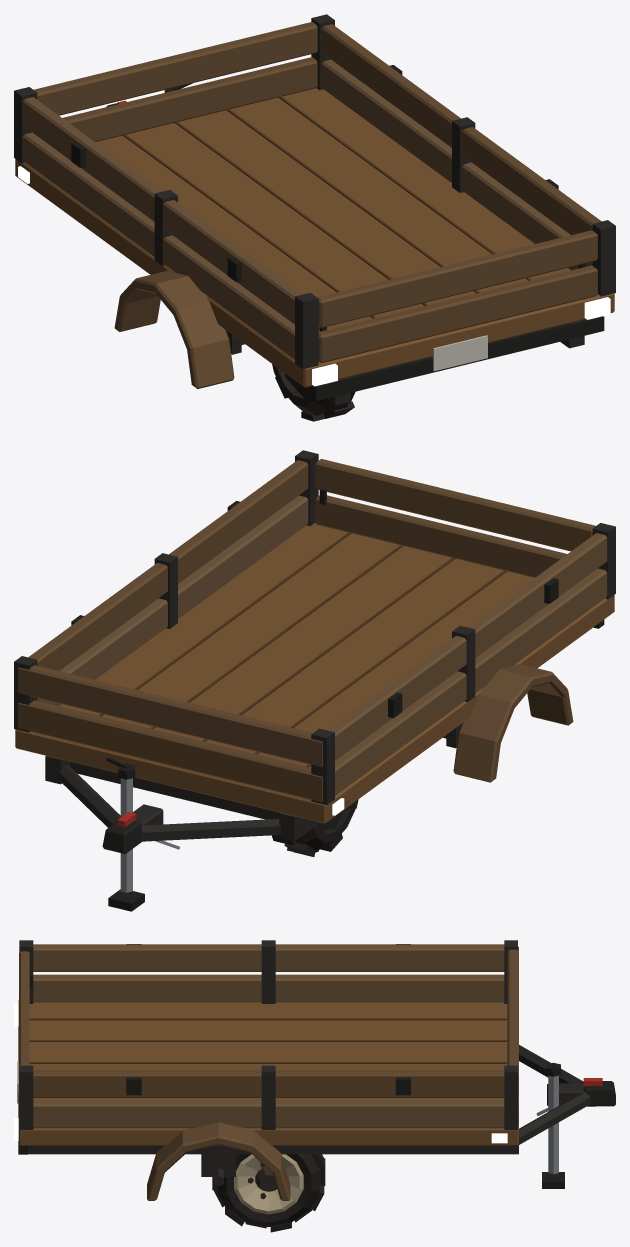
The model's file is PonyTrailer.glb.
3 views of the same model, one above another, from view 1: azimuth 30°, elevation 25°; view 2: azimuth 150°, elevation 25°; view 3: azimuth 270°, elevation 25° (orthographic). The views are drawn at different scales.
Visible parts, largest first — view 1: Bed, Body, Wheel, Lights; view 2: Bed, Body, Hitch, Wheel; view 3: Bed, Body, Wheel, Hitch, Lights.
Part boxes in pixels (bbox=[...]): Bed: bbox=[14, 14, 615, 387]; Body: bbox=[114, 270, 604, 405]; Wheel: bbox=[272, 364, 355, 421]; Lights: bbox=[18, 166, 610, 386]; Bed: bbox=[14, 450, 615, 823]; Body: bbox=[45, 620, 604, 841]; Hitch: bbox=[58, 757, 281, 911]; Wheel: bbox=[271, 799, 358, 856]; Bed: bbox=[18, 940, 518, 1145]; Body: bbox=[17, 1026, 518, 1200]; Wheel: bbox=[212, 1154, 325, 1232]; Hitch: bbox=[508, 1045, 615, 1188]; Lights: bbox=[14, 1003, 507, 1143].
Size of the model in its own units: 9.79 by 6.31 by 15.64.
